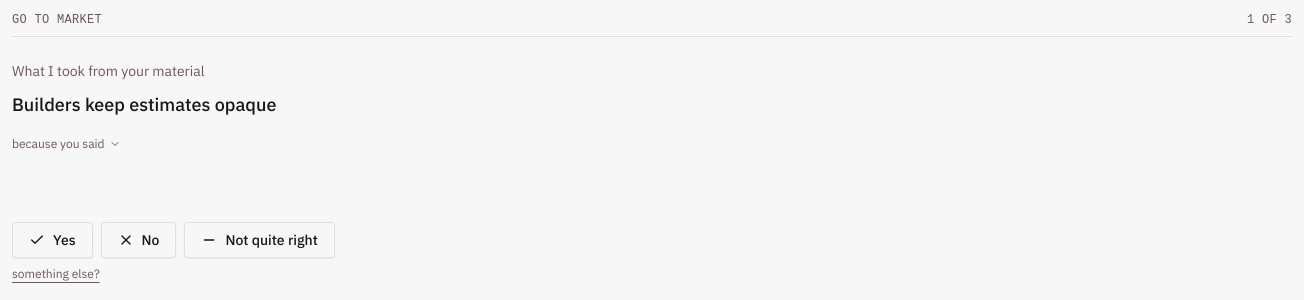
Test: ReviewPass › does not advance past a ruling that failed to save
The image size is (1304, 300).
Click the button "Yes". click: (52, 240)
box: [12,222,93,258]
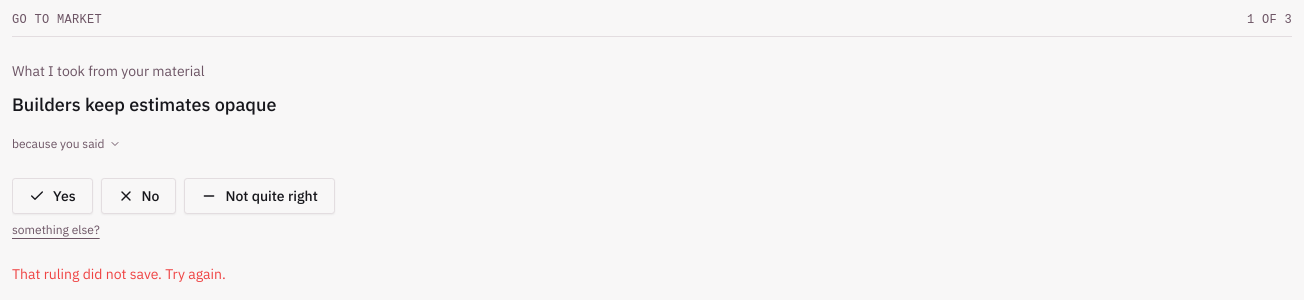
expect the text "Builders keep estimates opaque" is shown: met, box [12,93,276,116]
expect the message "That ruling did not save. Try again." is shown: met, box [12,265,226,283]
